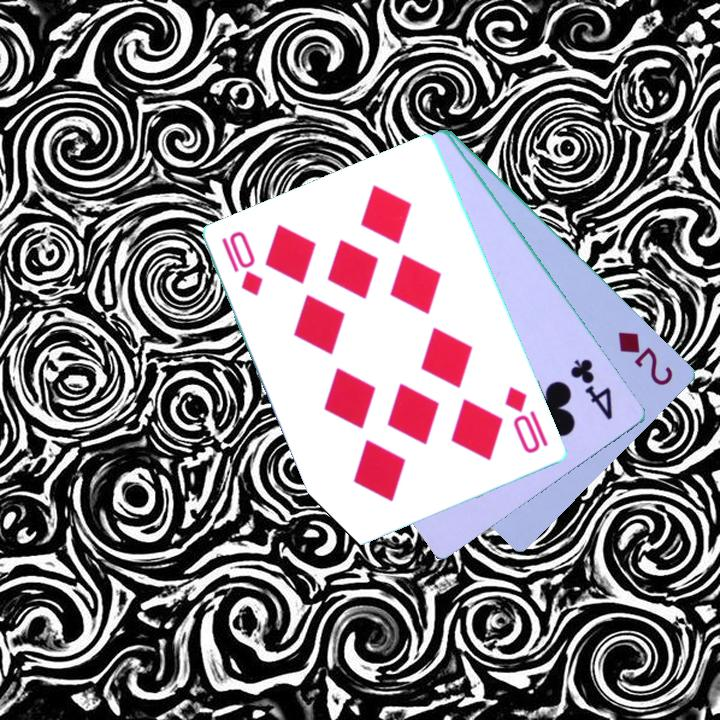10d: (501, 383, 552, 457), (218, 227, 267, 299)
2d: (615, 327, 677, 389)
4c: (567, 355, 617, 423)
